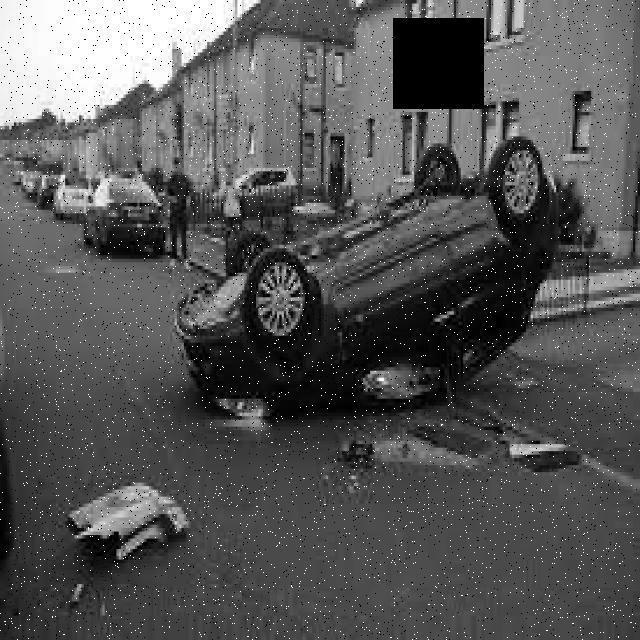accident: (172, 131, 570, 408)
vehicle: (83, 174, 169, 258), (213, 159, 296, 214), (54, 171, 91, 219), (38, 173, 57, 209), (25, 171, 41, 201)
